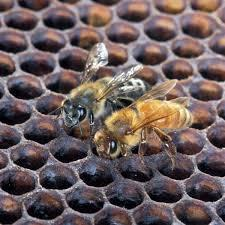worker-bee: (88, 97, 195, 165), (53, 56, 146, 125)
